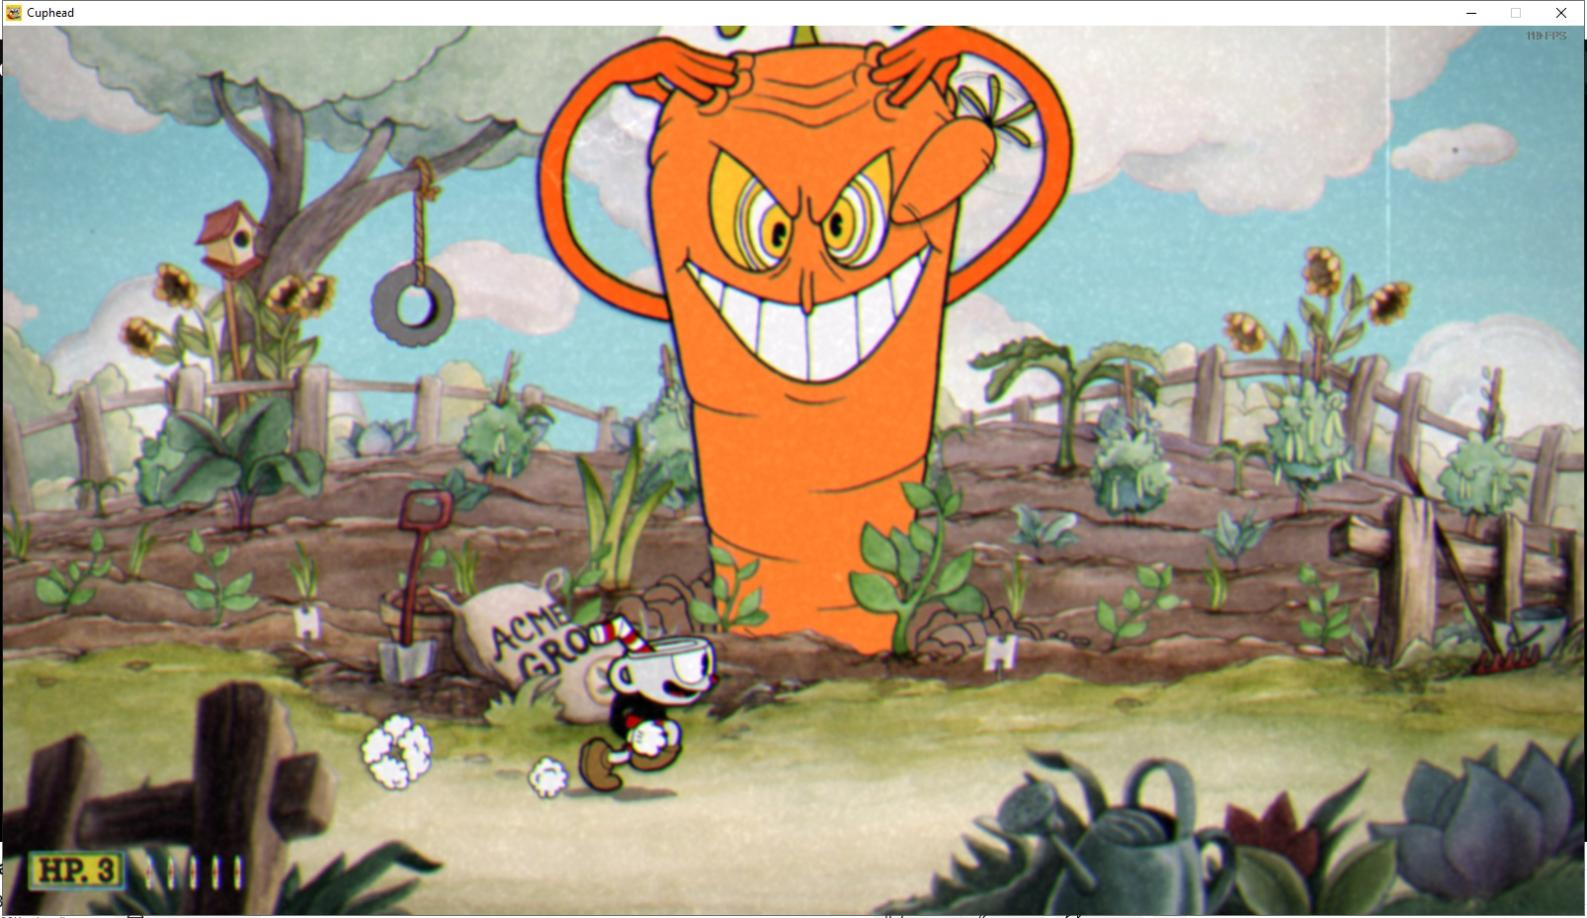carrot: (881, 68, 1040, 234)
hp3: (94, 852, 124, 890)
player: (559, 613, 721, 803)
